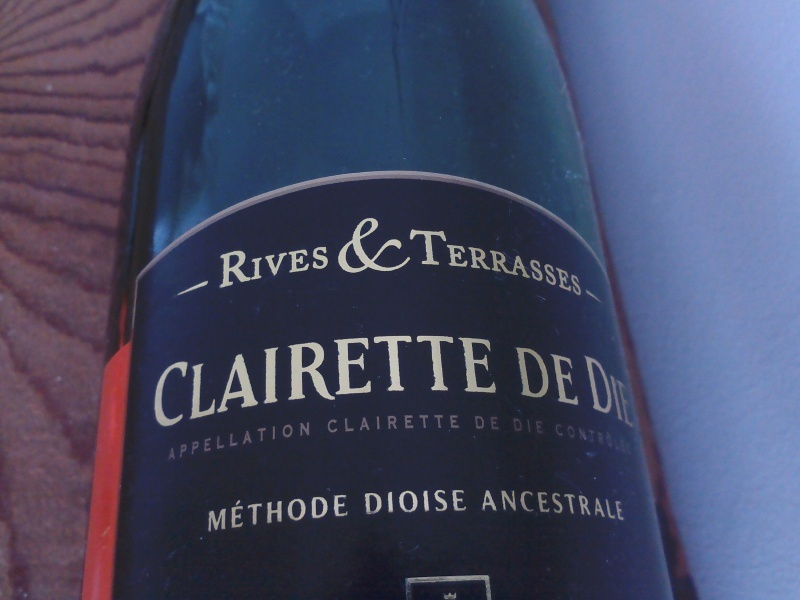text: (161, 322, 176, 430), (177, 322, 192, 430), (193, 322, 208, 430), (209, 322, 224, 430), (225, 322, 240, 430), (241, 322, 256, 430), (257, 322, 272, 430), (273, 322, 288, 430), (289, 322, 304, 430), (305, 322, 320, 430), (321, 322, 336, 430), (337, 322, 352, 430), (353, 322, 368, 430), (369, 322, 384, 430), (385, 322, 400, 430), (401, 322, 416, 430), (417, 322, 432, 430), (433, 322, 448, 430), (449, 322, 464, 430), (465, 322, 480, 430), (481, 322, 496, 430), (593, 348, 608, 431), (609, 348, 624, 431), (417, 220, 432, 299), (433, 220, 448, 299), (449, 220, 464, 299), (465, 220, 480, 299), (481, 220, 496, 299), (497, 220, 512, 299), (513, 220, 528, 299), (529, 220, 544, 299), (545, 220, 560, 299), (561, 220, 576, 299), (402, 220, 416, 299), (401, 215, 417, 274), (529, 345, 544, 407), (545, 345, 560, 407), (561, 345, 576, 407), (581, 348, 592, 431), (353, 215, 368, 274), (369, 215, 384, 274), (385, 215, 400, 274), (514, 345, 528, 407), (152, 322, 160, 430), (625, 348, 635, 431), (225, 246, 240, 290), (241, 246, 256, 290), (257, 246, 272, 290), (273, 246, 288, 290), (289, 246, 304, 290), (305, 246, 320, 290), (177, 418, 192, 462), (193, 418, 208, 462), (209, 418, 224, 462), (225, 418, 240, 462), (241, 418, 256, 462), (257, 418, 272, 462), (273, 418, 288, 462), (289, 418, 304, 462), (209, 493, 224, 534), (225, 493, 240, 534), (241, 493, 256, 534), (257, 493, 272, 534), (273, 493, 288, 534), (289, 493, 304, 534), (305, 493, 320, 534), (321, 493, 336, 534), (561, 419, 576, 455), (577, 419, 592, 455), (593, 419, 608, 455), (609, 419, 624, 455), (497, 486, 512, 522), (513, 486, 528, 522), (529, 486, 544, 522), (545, 486, 560, 522), (561, 486, 576, 522), (577, 486, 592, 522), (593, 486, 608, 522), (609, 486, 624, 522), (337, 493, 350, 534), (577, 220, 583, 299), (369, 489, 384, 516), (385, 489, 400, 516), (401, 489, 416, 516), (417, 489, 432, 516), (433, 489, 448, 516), (449, 489, 464, 516), (486, 486, 496, 522), (337, 413, 352, 435), (353, 413, 368, 435), (369, 413, 384, 435), (385, 413, 400, 435), (401, 413, 416, 435), (417, 413, 432, 435), (433, 413, 448, 435), (321, 246, 328, 290), (625, 419, 633, 455), (305, 418, 311, 462), (449, 413, 460, 435), (513, 418, 528, 434), (529, 418, 544, 434), (348, 215, 352, 274), (219, 246, 224, 290), (481, 416, 496, 430), (327, 413, 336, 435), (577, 345, 580, 407), (172, 418, 176, 462), (556, 419, 560, 455), (497, 322, 498, 430), (364, 489, 368, 516), (474, 416, 480, 430), (465, 489, 468, 516), (497, 416, 500, 430), (625, 486, 626, 522)
